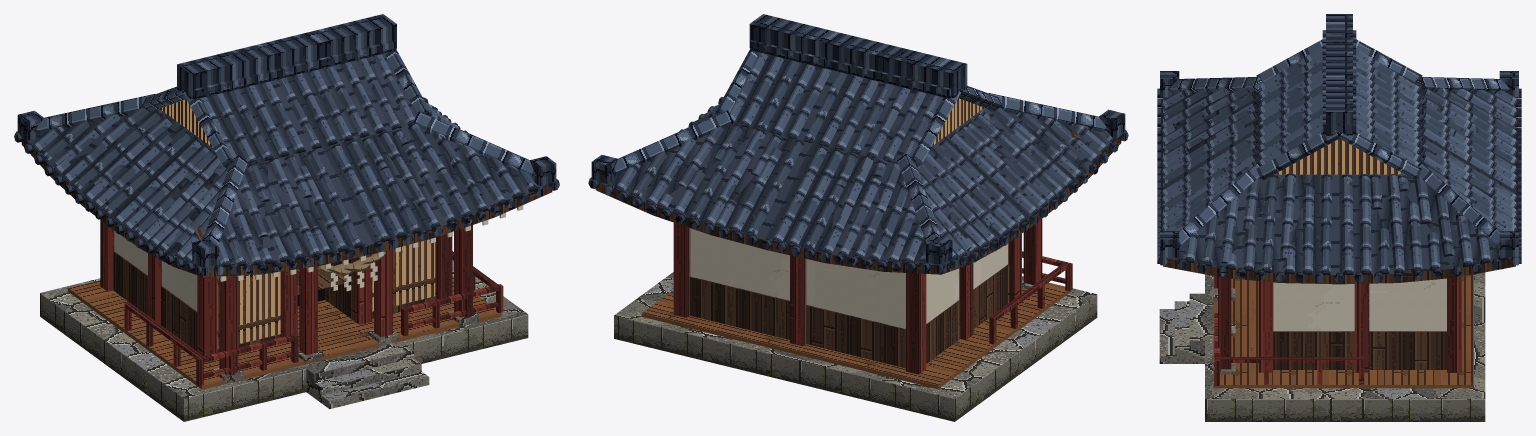
Rendered from JP_Shrine_Haiden_A.glb.
3 views of the same model, side by side, from view 1: azimuth 30°, elevation 25°; view 2: azimuth 150°, elevation 25°; view 3: azimuth 270°, elevation 25° (orthographic). The views are drawn at different scales.
Parts seen in each view (by area): view 1: JP_Shrine_Haiden_A; view 2: JP_Shrine_Haiden_A; view 3: JP_Shrine_Haiden_A.
Part boxes in pixels (x1=…): JP_Shrine_Haiden_A: x1=14, y1=14, x2=559, y2=421; JP_Shrine_Haiden_A: x1=588, y1=14, x2=1128, y2=421; JP_Shrine_Haiden_A: x1=1157, y1=14, x2=1521, y2=421.
Size of the model in its own units: 7.2 by 5.46 by 6.5.
14 materials, 14 textured.
